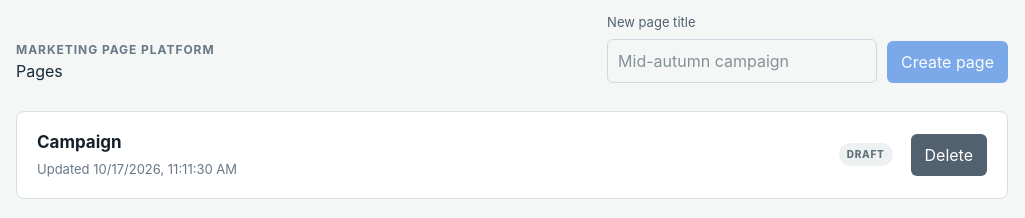
Test: PageListPage › deletes an existing page after browser confirmation
Expected: the link "Campaign" is shown, [37, 132, 122, 152]
Expected: the text "draft" is shown, [839, 143, 892, 166]
Click the button with aria-label "Delete Campaign". click: [949, 154]
box: [910, 134, 987, 176]
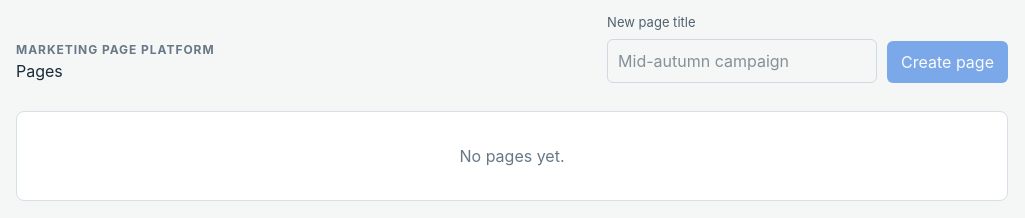
Now the text "No pages yet." is shown, box [16, 110, 1008, 200]
